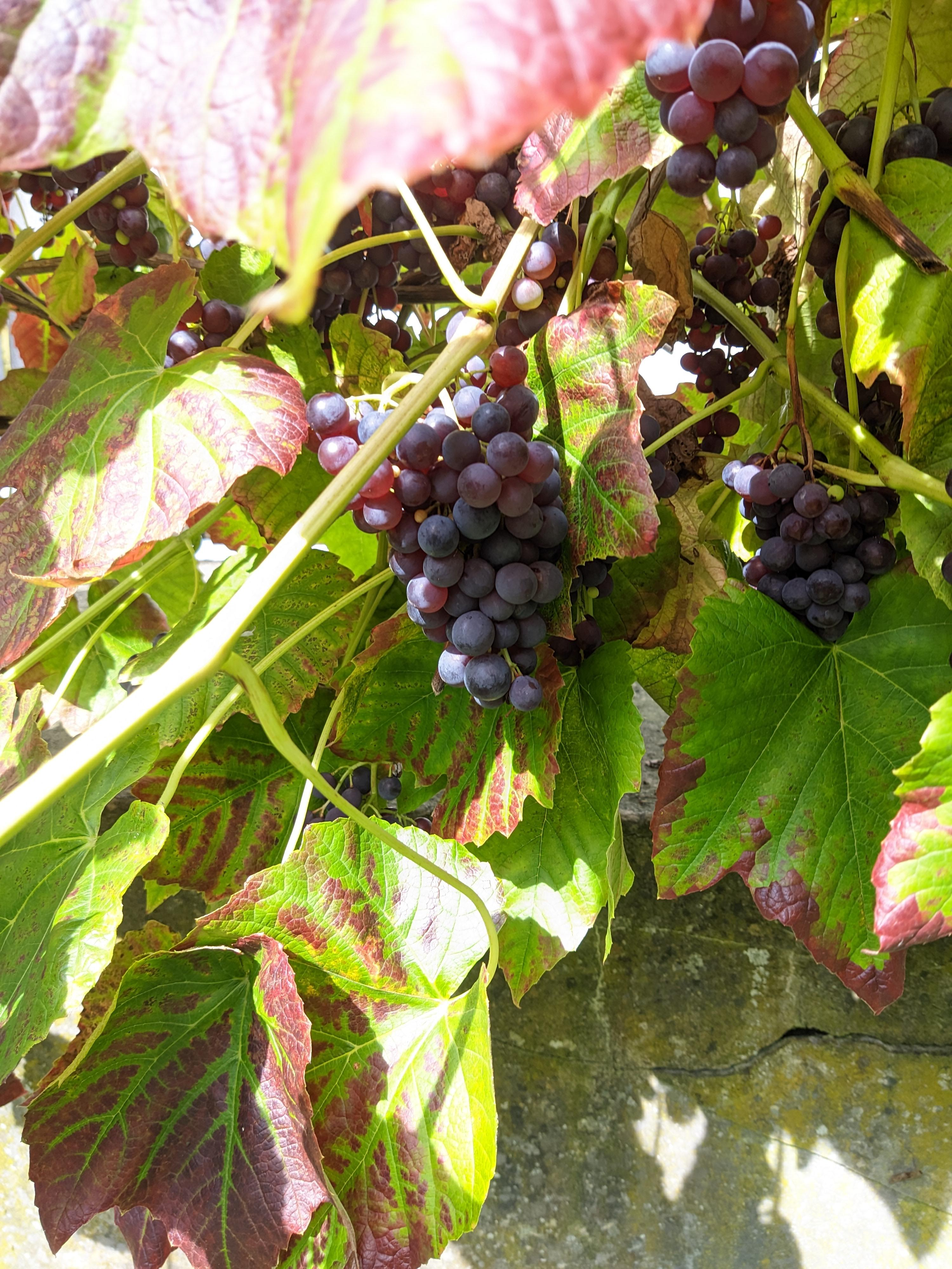Grape Ripe: (304, 317, 567, 712), (272, 148, 617, 349), (804, 86, 952, 467), (643, 0, 827, 196), (721, 439, 896, 642), (680, 216, 781, 452), (22, 150, 162, 266), (306, 766, 432, 834), (171, 303, 267, 365), (638, 416, 677, 498)
